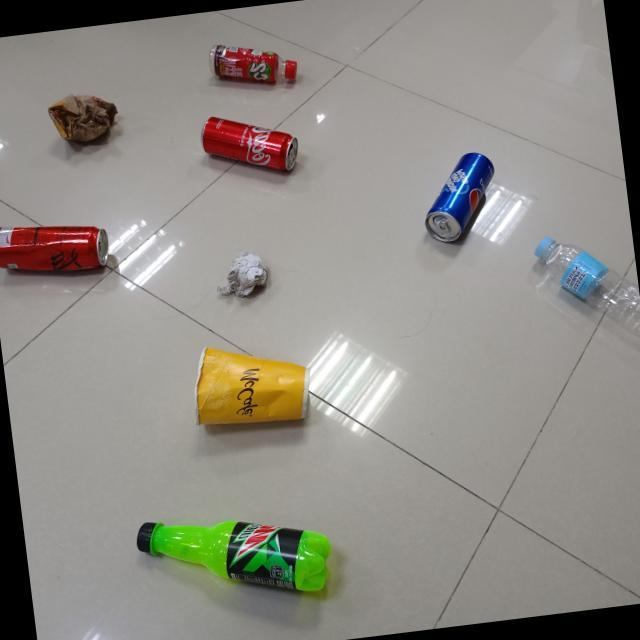recyclable waste: (127, 494, 340, 618), (180, 328, 320, 441), (524, 219, 640, 354), (413, 143, 507, 250), (193, 102, 308, 186), (0, 208, 116, 286), (202, 28, 305, 96), (41, 84, 127, 154), (208, 242, 278, 308)
